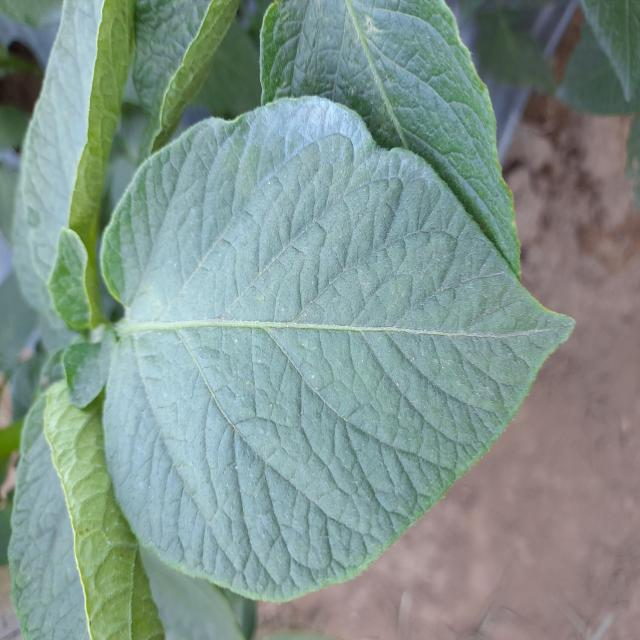healthy: (94, 94, 576, 606)
